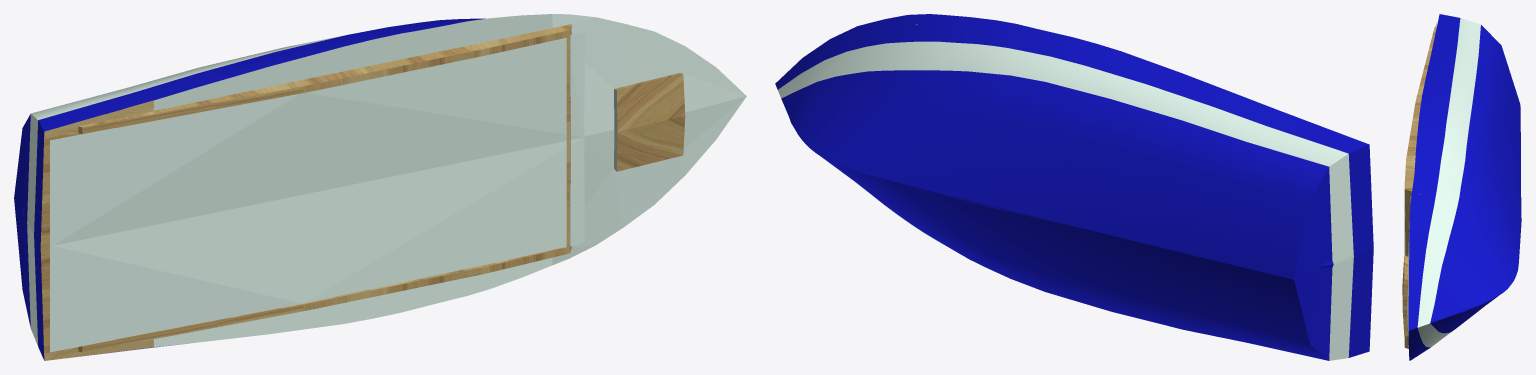
Rendered from simpleHull.obj.
3 renders of one model, left to right at view 1: azimuth 30°, elevation 25°; view 2: azimuth 150°, elevation 25°; view 3: azimuth 270°, elevation 25°, orthographic. The views are drawn at different scales.
Parts seen in each view (by area): view 1: Cabin_Plane.001_Windows.000; view 2: Cabin_Plane.001_Windows.000; view 3: Cabin_Plane.001_Windows.000.
Part boxes in pixels (<box>): Cabin_Plane.001_Windows.000: <box>14,14,746,360</box>; Cabin_Plane.001_Windows.000: <box>775,14,1373,360</box>; Cabin_Plane.001_Windows.000: <box>1402,14,1521,360</box>.
Size of the model in its own units: 5.2 by 2.02 by 1.1.
